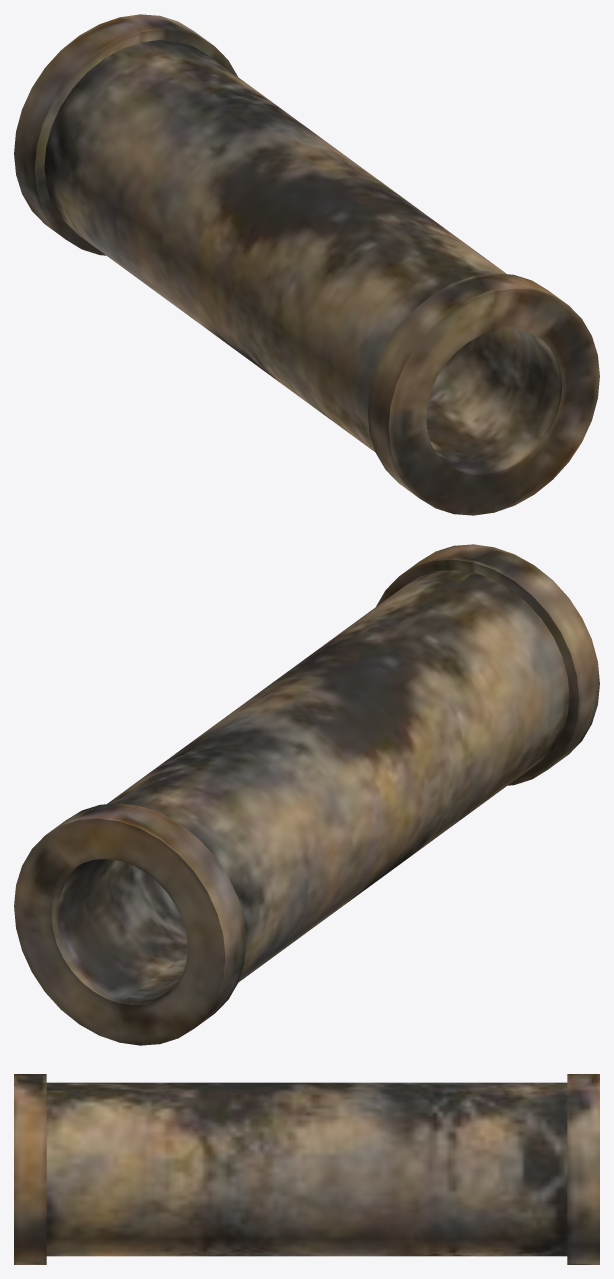
The model's file is pipe-straight-medium.glb.
3 renders of one model, top to bottom at view 1: azimuth 30°, elevation 25°; view 2: azimuth 150°, elevation 25°; view 3: azimuth 270°, elevation 25°, orthographic. The views are drawn at different scales.
Parts seen in each view (by area): view 1: pipe-straight-medium; view 2: pipe-straight-medium; view 3: pipe-straight-medium.
Part boxes in pixels (<box>): pipe-straight-medium: <box>14,14,599,515</box>; pipe-straight-medium: <box>14,544,599,1045</box>; pipe-straight-medium: <box>14,1074,599,1264</box>.
Size of the model in its own units: 0.2811 by 0.2811 by 0.8625.
1 material, 1 textured.
